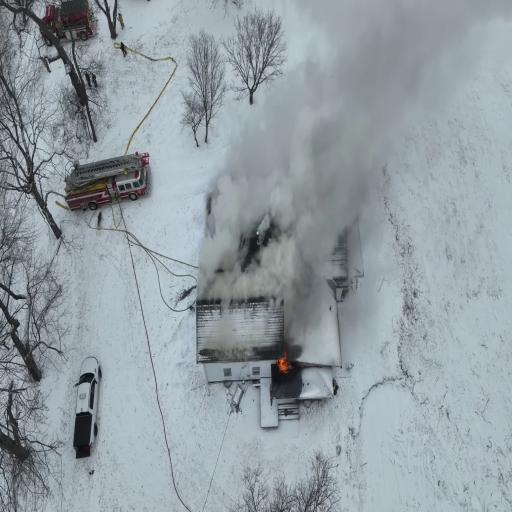smoke: (254, 139, 340, 220)
